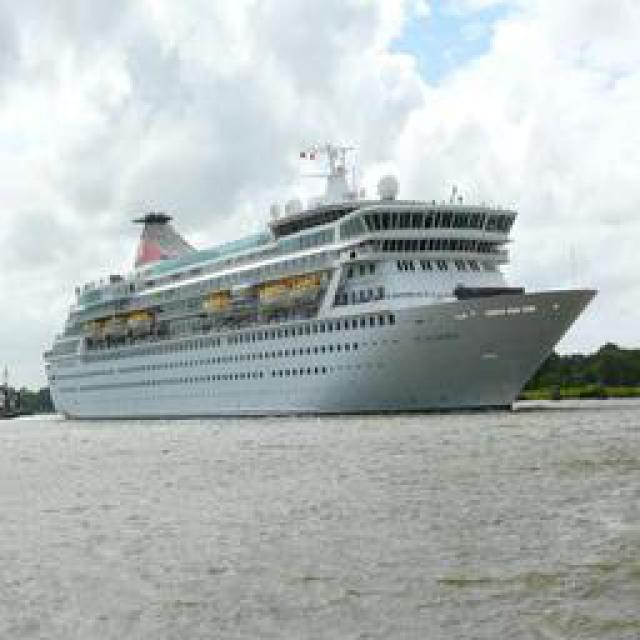Ship: (46, 182, 586, 425)
